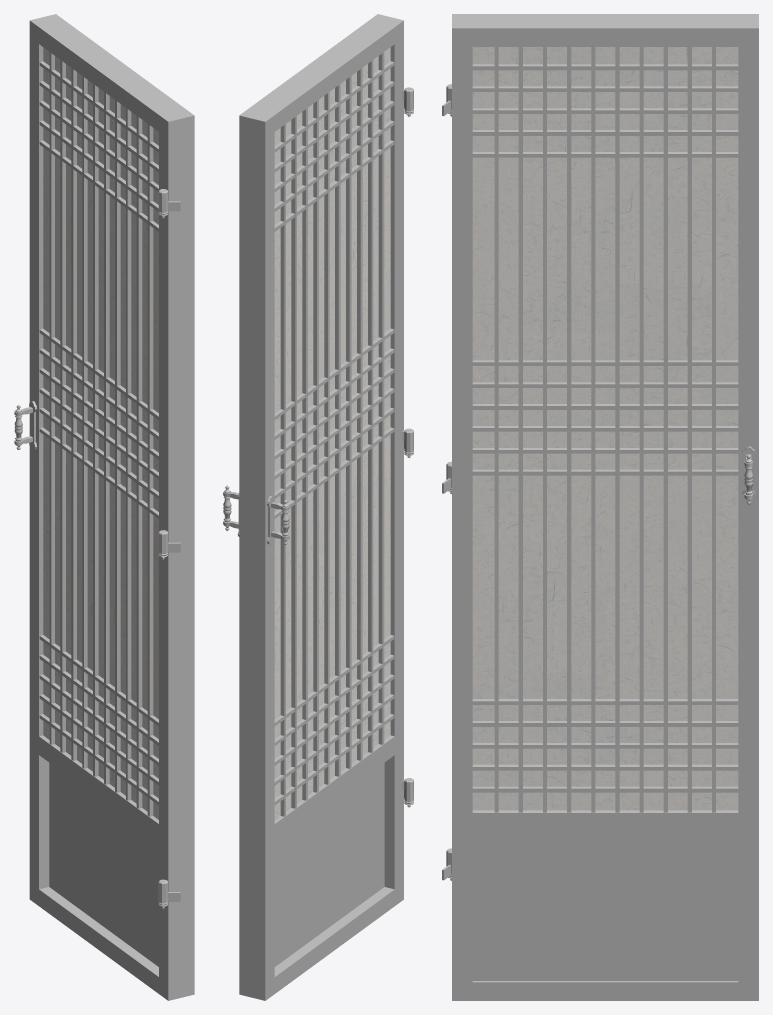
Rendered from SM_GlassDoor01A-a.fbx.
The picture shows the model from 3 angles, left to right: view 1: azimuth 30°, elevation 25°; view 2: azimuth 150°, elevation 25°; view 3: azimuth 270°, elevation 25°; orthographic projection. The views are drawn at different scales.
Visible parts, largest first — view 1: SM_GlassDoor01A-a; view 2: SM_GlassDoor01A-a; view 3: SM_GlassDoor01A-a.
Part boxes in pixels (<box>): SM_GlassDoor01A-a: <box>14,14,194,1000</box>; SM_GlassDoor01A-a: <box>223,14,413,1000</box>; SM_GlassDoor01A-a: <box>442,14,758,1000</box>.
Size of the model in its own units: 13.96 by 53.53 by 181.
